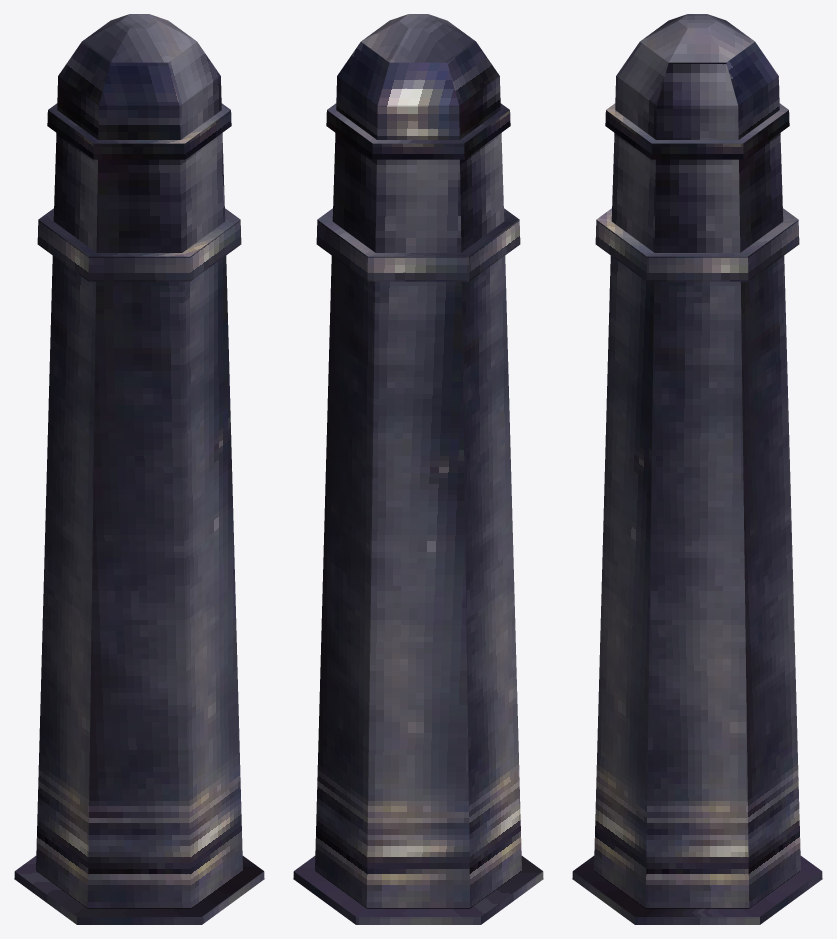
The model's file is retro_bollard.glb.
3 views of the same model, side by side, from view 1: azimuth 30°, elevation 25°; view 2: azimuth 150°, elevation 25°; view 3: azimuth 270°, elevation 25° (orthographic).
Parts seen in each view (by area): view 1: retro_bollard; view 2: retro_bollard; view 3: retro_bollard.
Boxes of the visible parts, x1,y1,x2,y2 form: retro_bollard: (14,14,264,924); retro_bollard: (293,14,543,924); retro_bollard: (572,14,822,924).
Bounding box in the file's own units: 0.2974 × 1.3 × 0.3434.
1 material, 1 textured.
